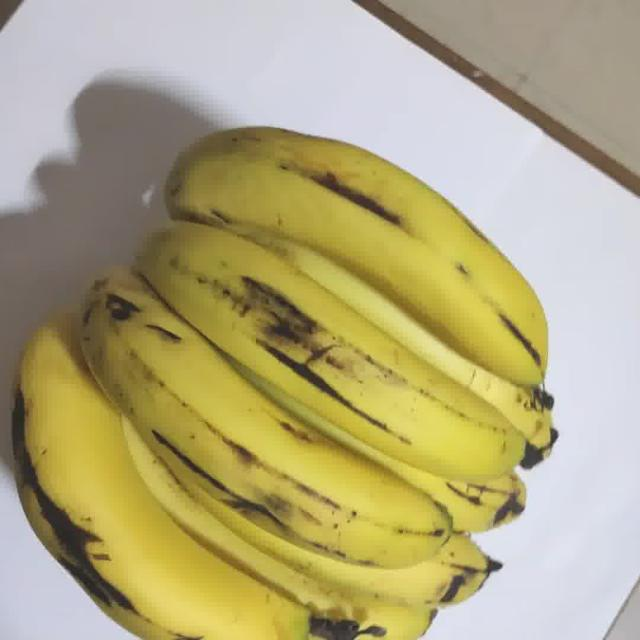banana_pacche: (9, 35, 609, 636)
